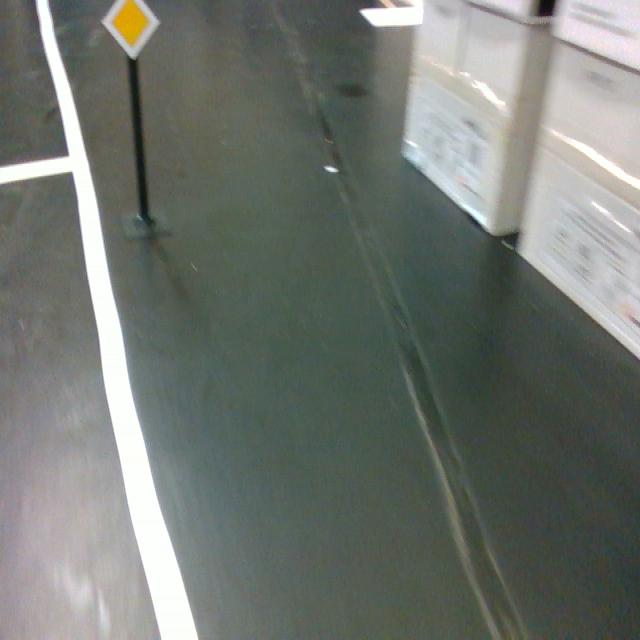priority-sign: (100, 0, 161, 61)
